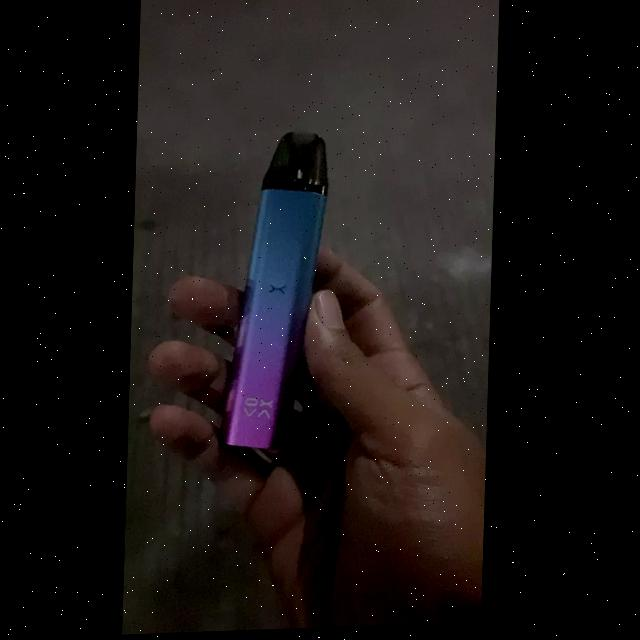vape: (220, 134, 330, 454)
